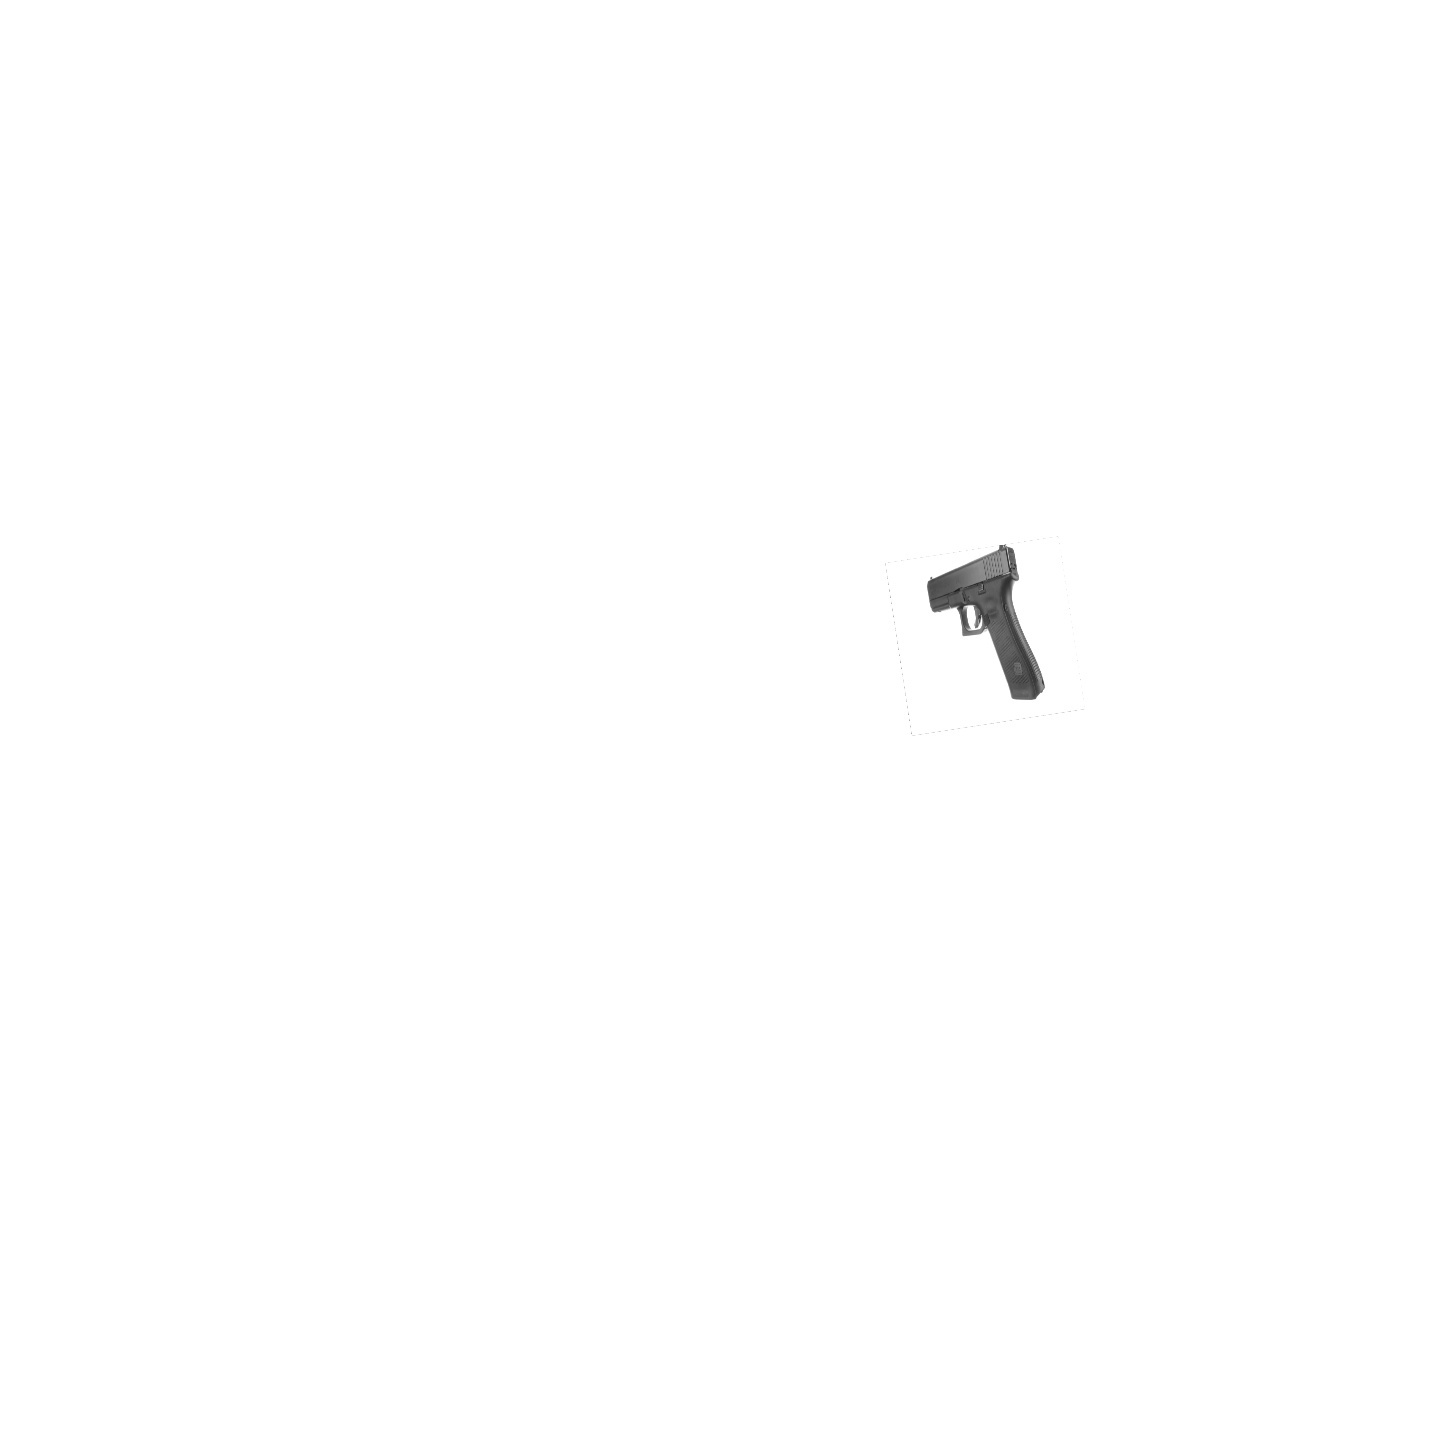gun: (920, 536, 1056, 708)
